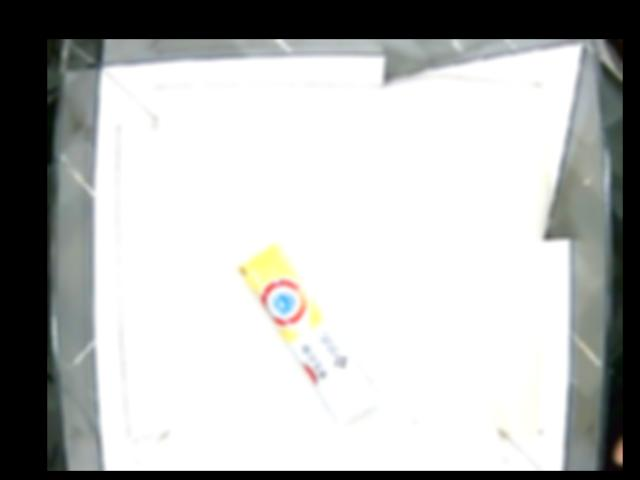Medicine: (229, 226, 379, 420)
